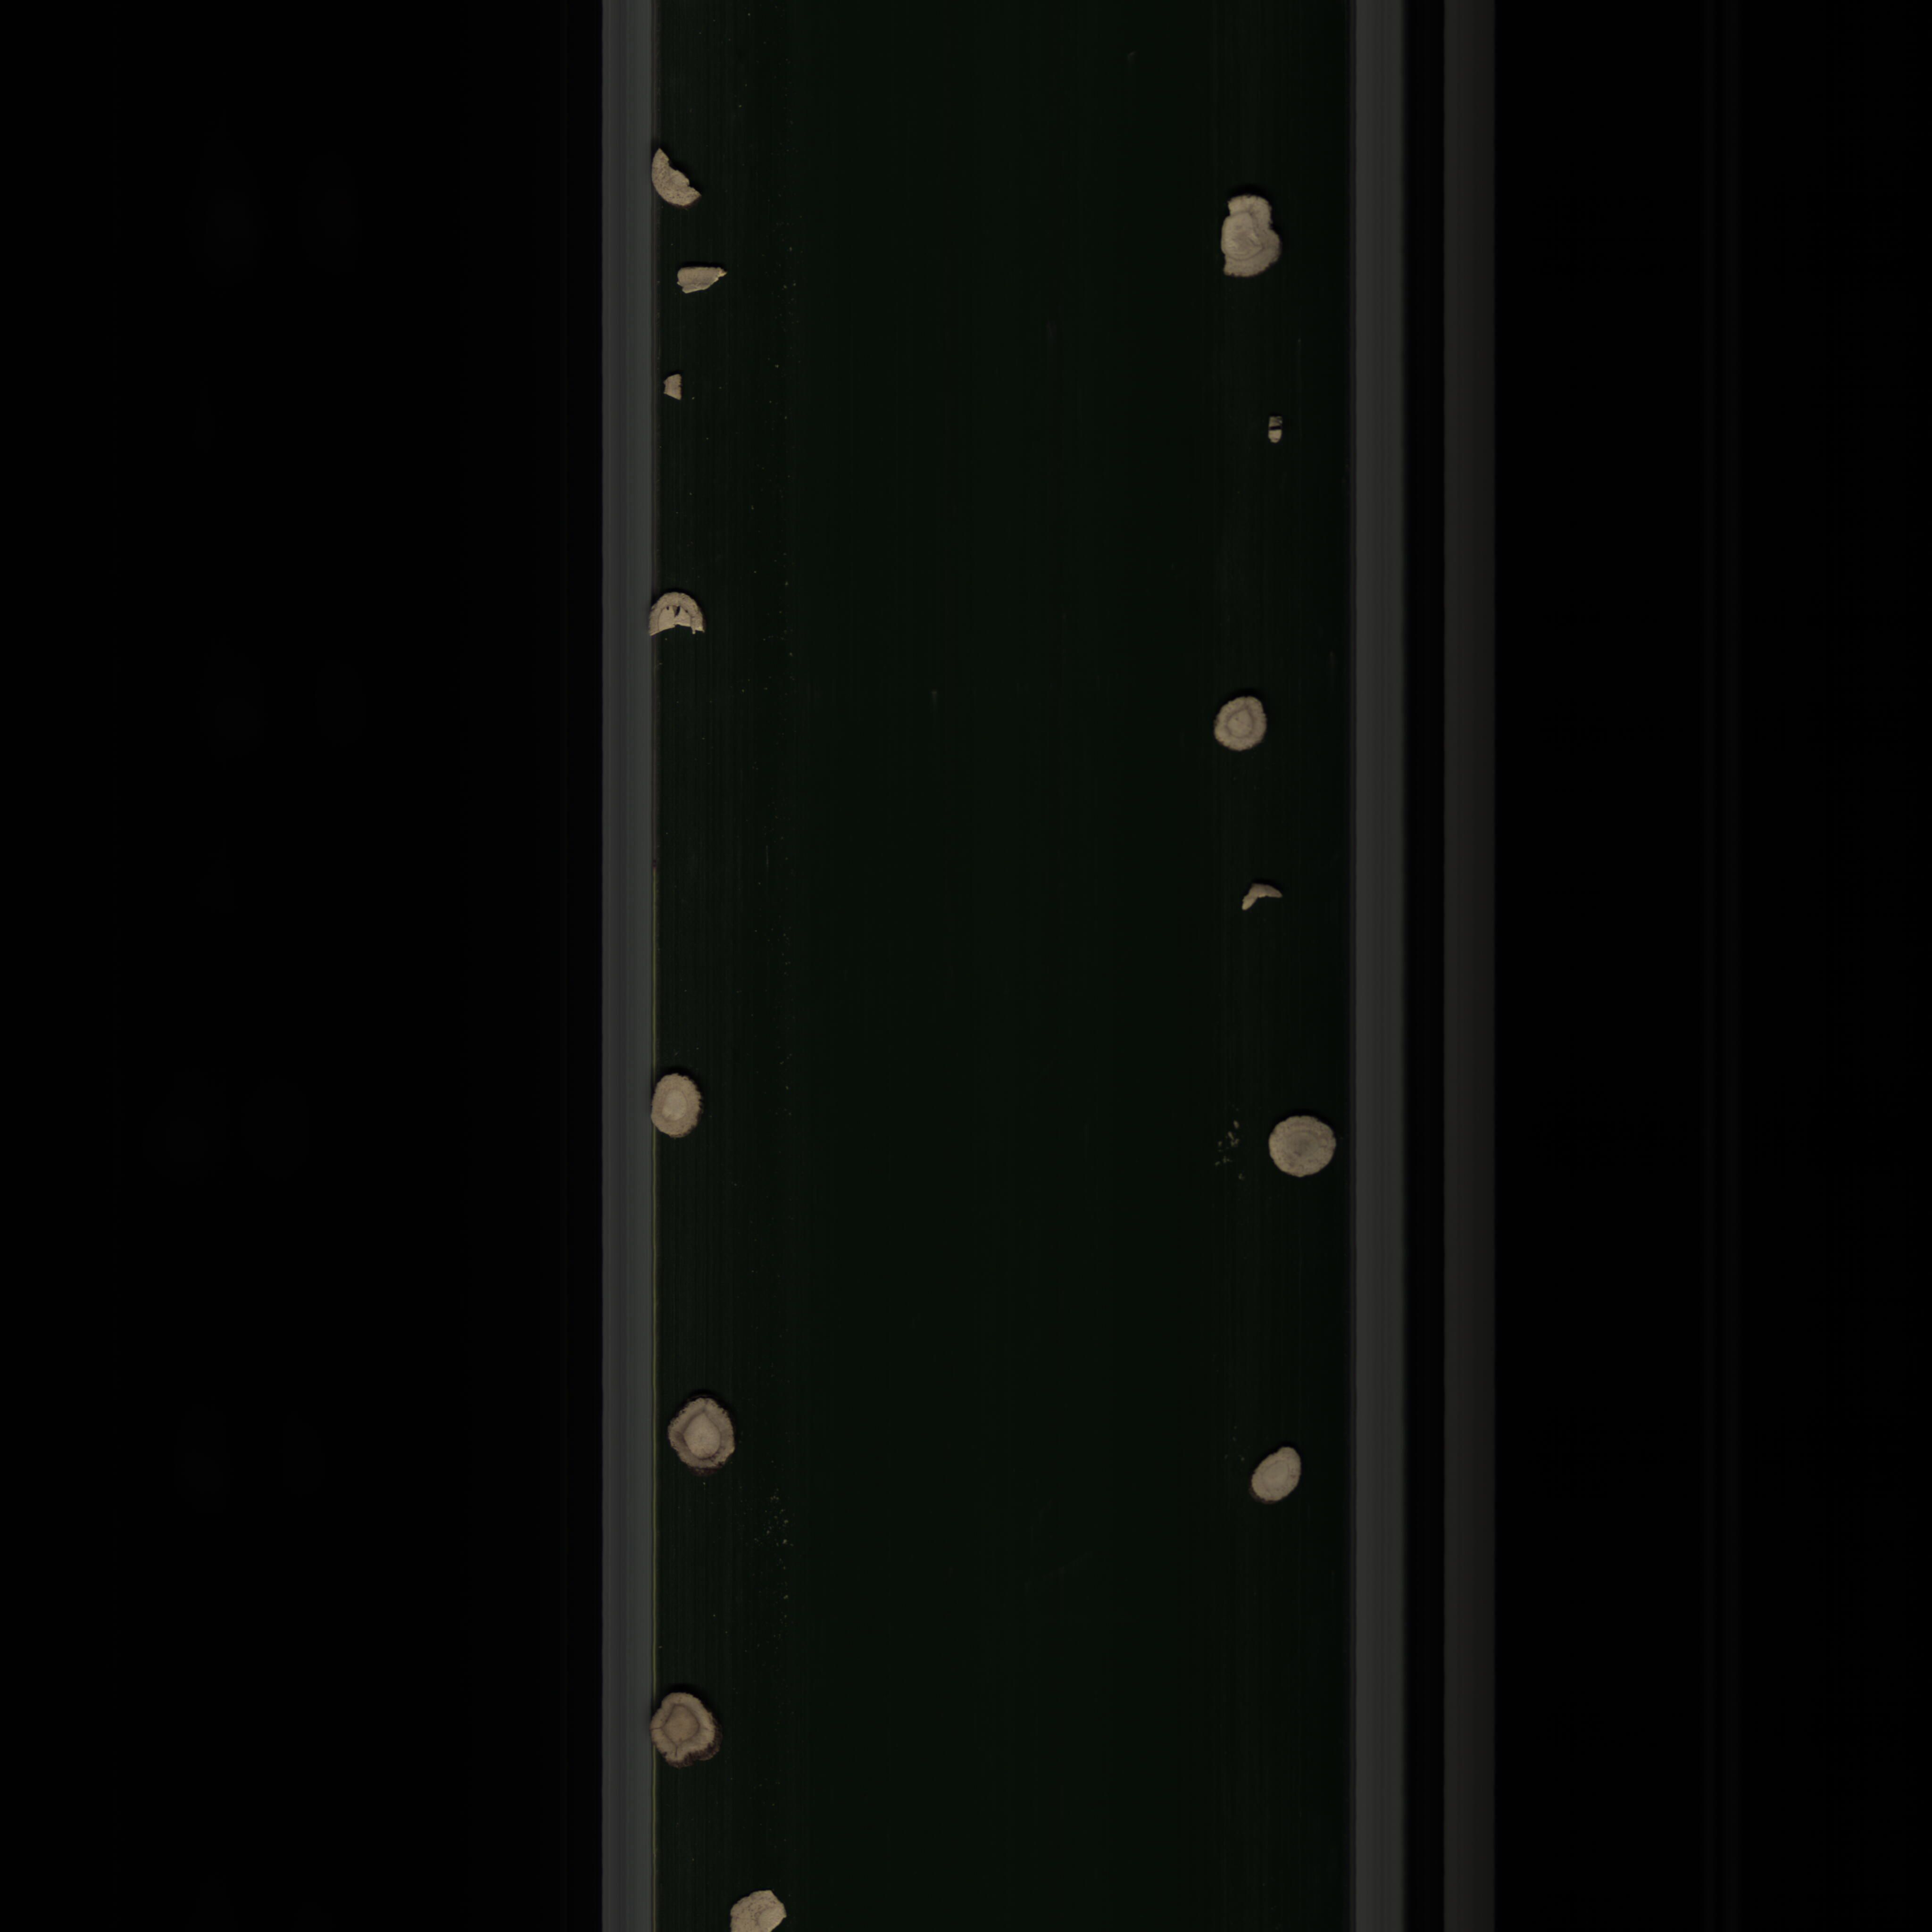debris: (1221, 189, 1284, 290), (639, 589, 717, 649), (649, 145, 706, 218), (672, 264, 736, 301), (1240, 881, 1284, 916), (658, 372, 690, 403)
moldy: (640, 1688, 738, 1776), (662, 1394, 748, 1479)
